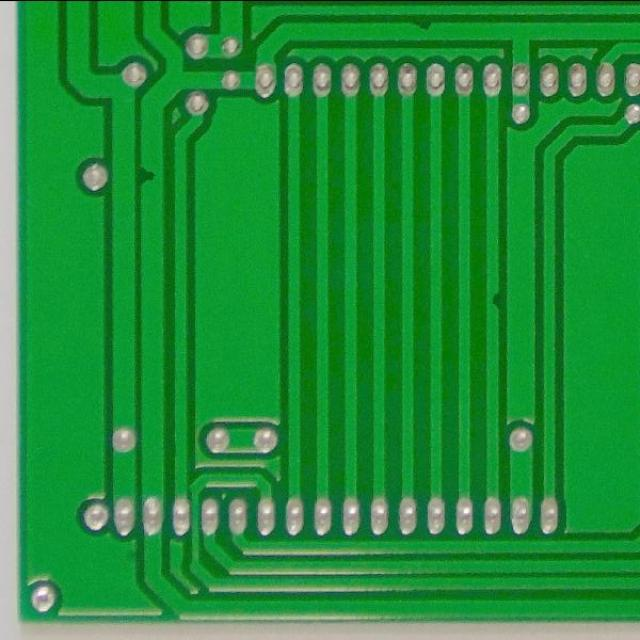mouse_bite: (483, 286, 505, 318), (406, 15, 440, 35), (138, 160, 156, 190)
